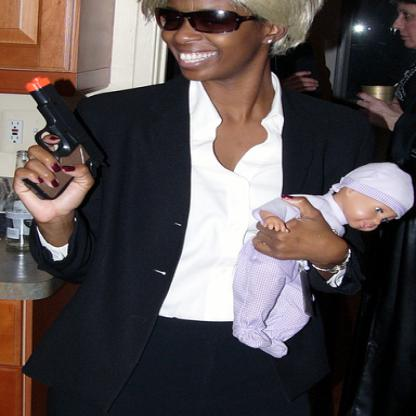gun: (18, 72, 112, 199)
